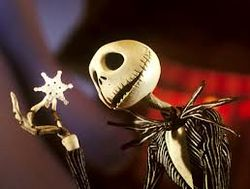Jack Skellington: (9, 39, 244, 189)
